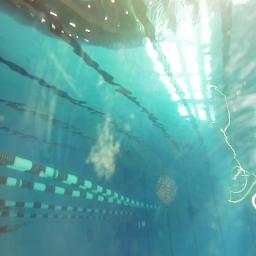Full: (187, 205, 195, 217)
